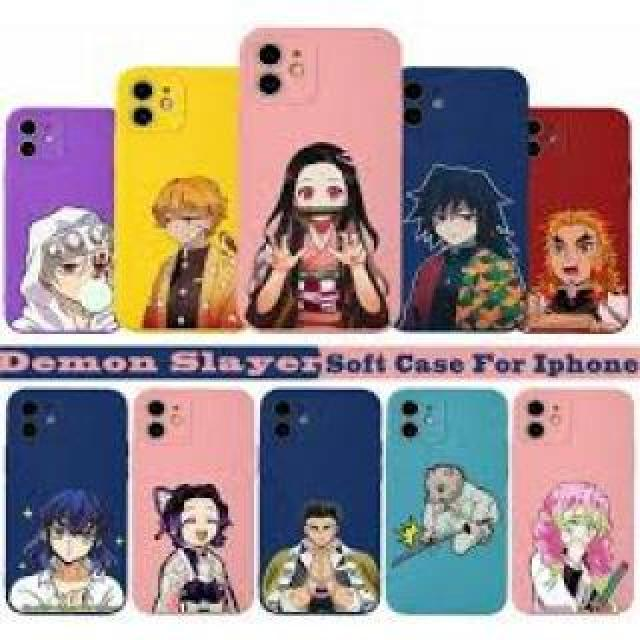smart phone: (240, 12, 412, 333), (393, 38, 537, 330), (118, 35, 242, 335), (3, 373, 134, 627), (515, 80, 637, 342), (518, 380, 635, 630), (257, 390, 378, 620), (392, 383, 506, 617), (0, 73, 107, 322), (136, 380, 242, 627)
